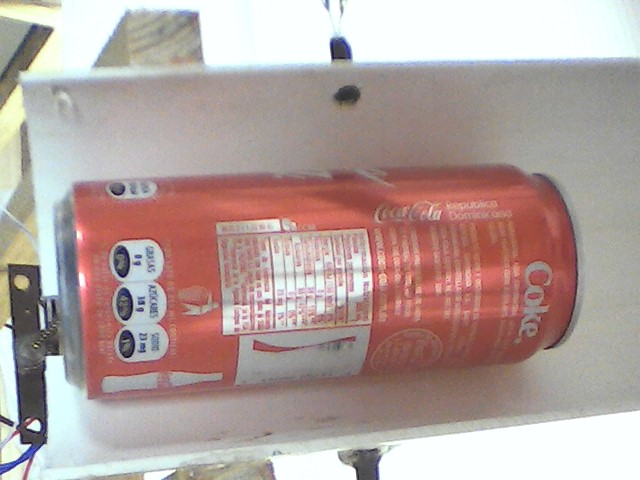lata: (48, 160, 598, 408)
